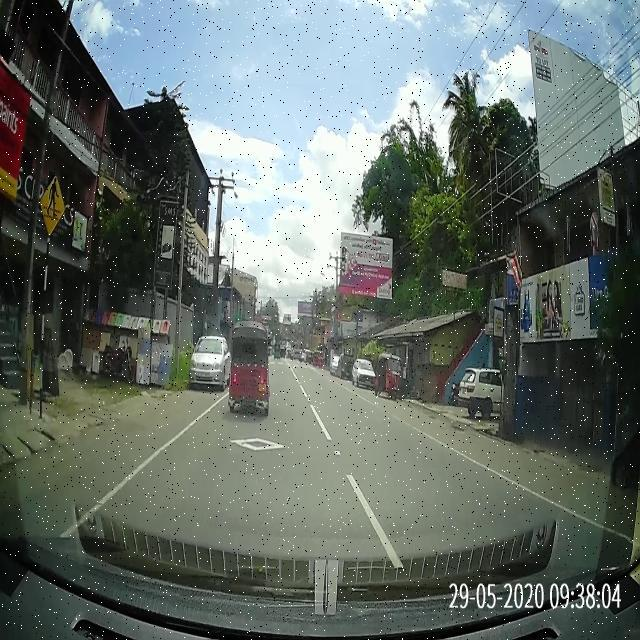diamond: (142, 422, 361, 486)
